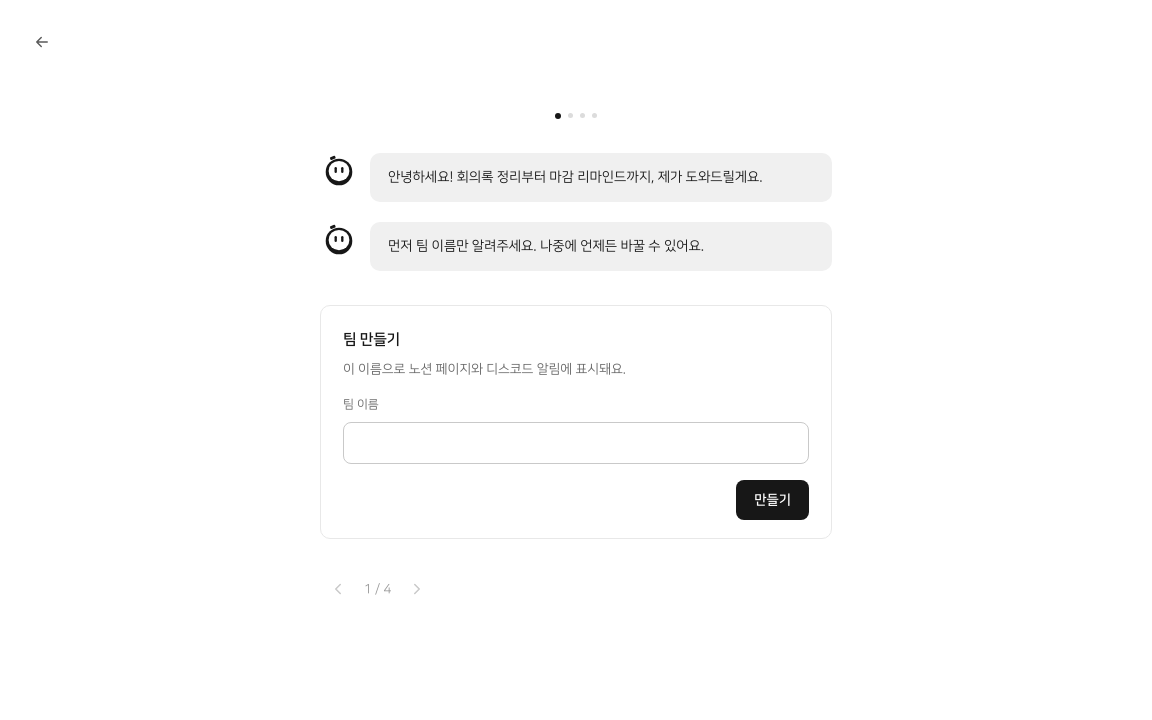
Test case: 나가기 (U3-7) › 최초 가입자는 워크스페이스 선택 화면으로 간다
Click the link named "온보딩 나가기": (42, 42) [33,33,51,51]
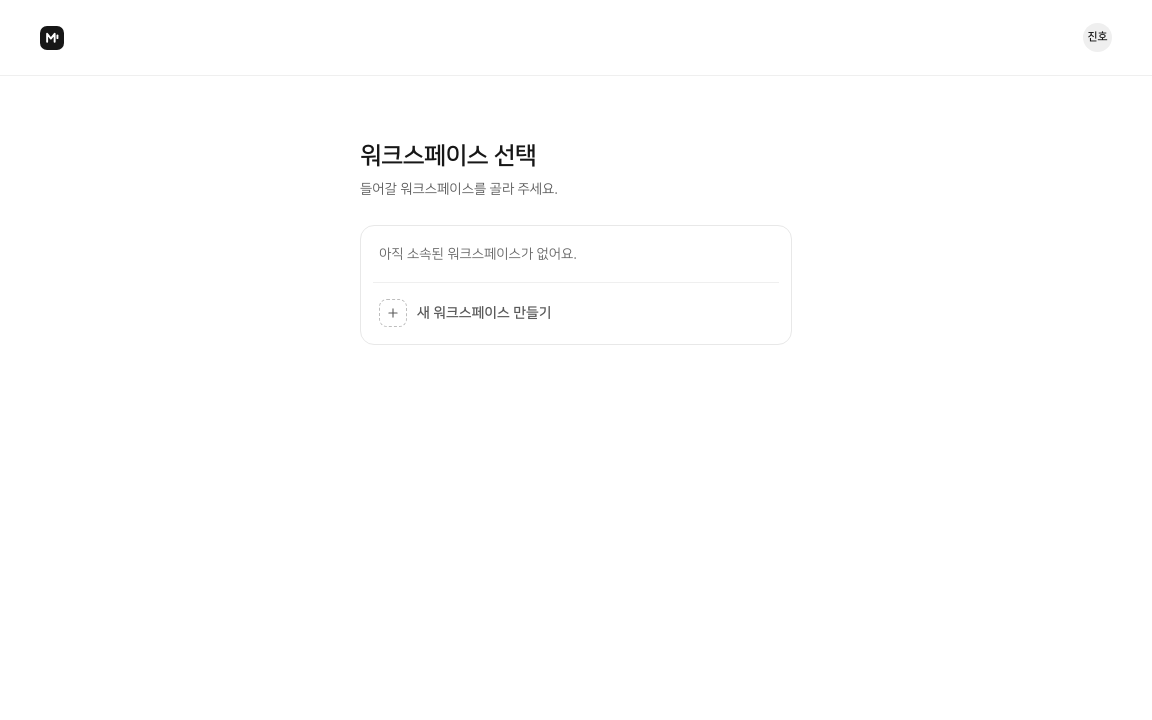
Expected: the heading "워크스페이스 선택" is shown, [360,143,536,169]
